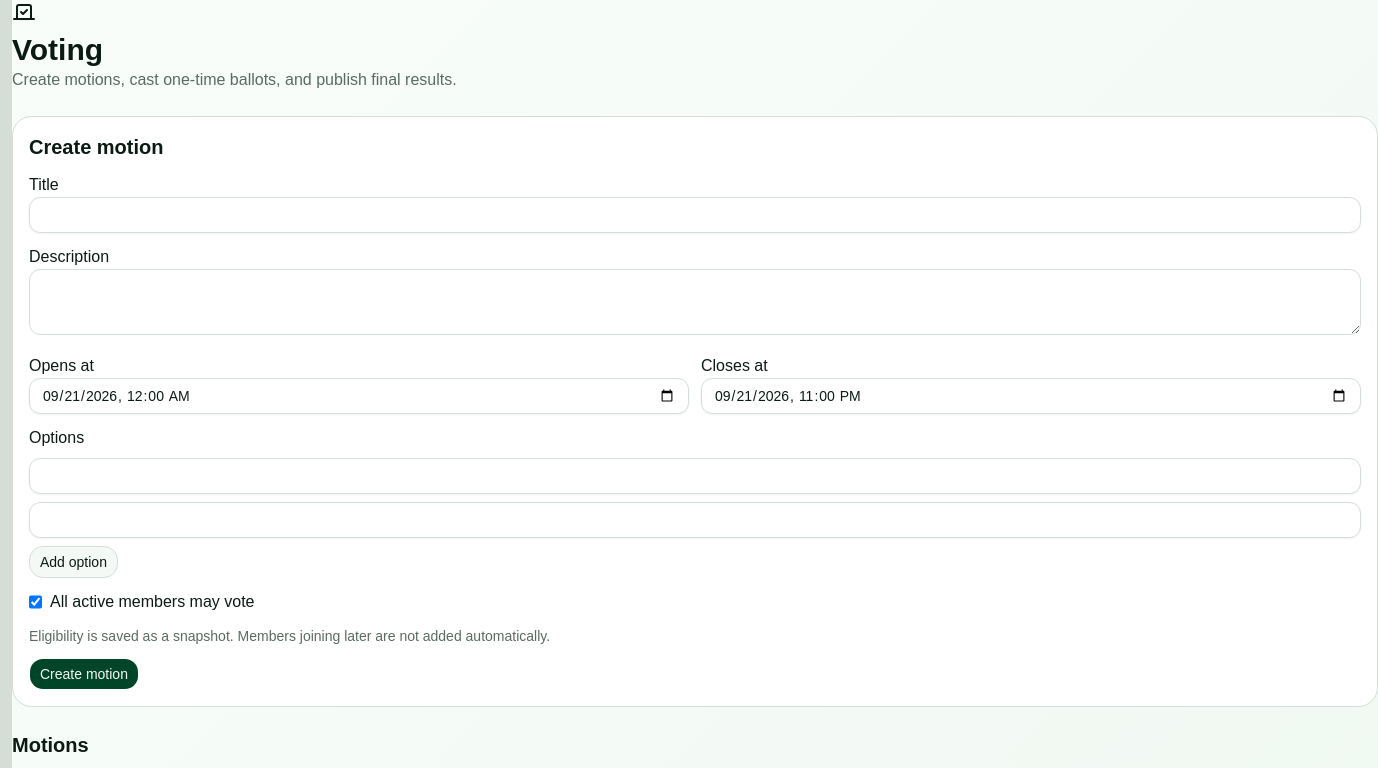
reports member-loading errors when selecting voters
Click the checkbox labelled "All active members may vote" at (36, 602), box [29, 590, 42, 614]
(page scrolled)
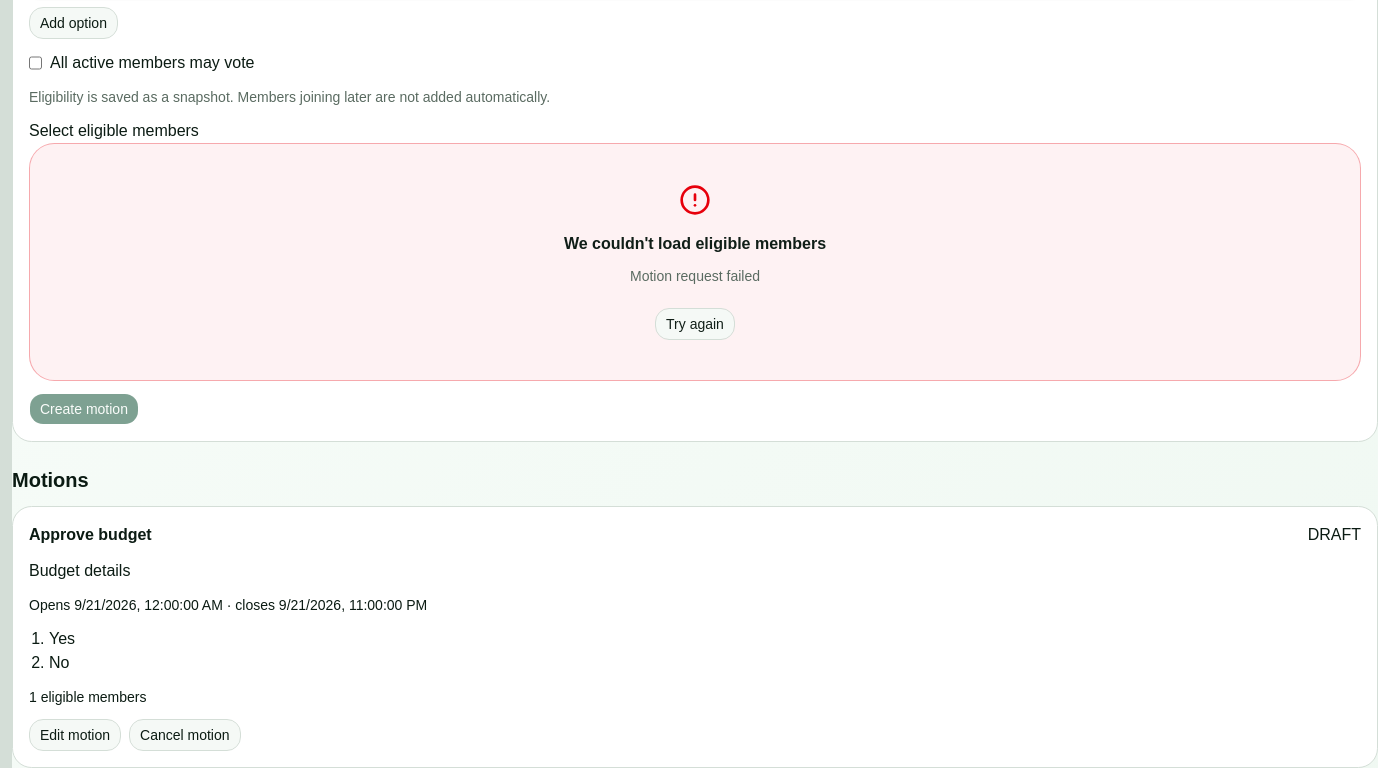
Expected: the message shows "Motion request failed", [630, 268, 760, 284]
Expected: the button "Create motion" is disabled, [29, 393, 139, 425]
